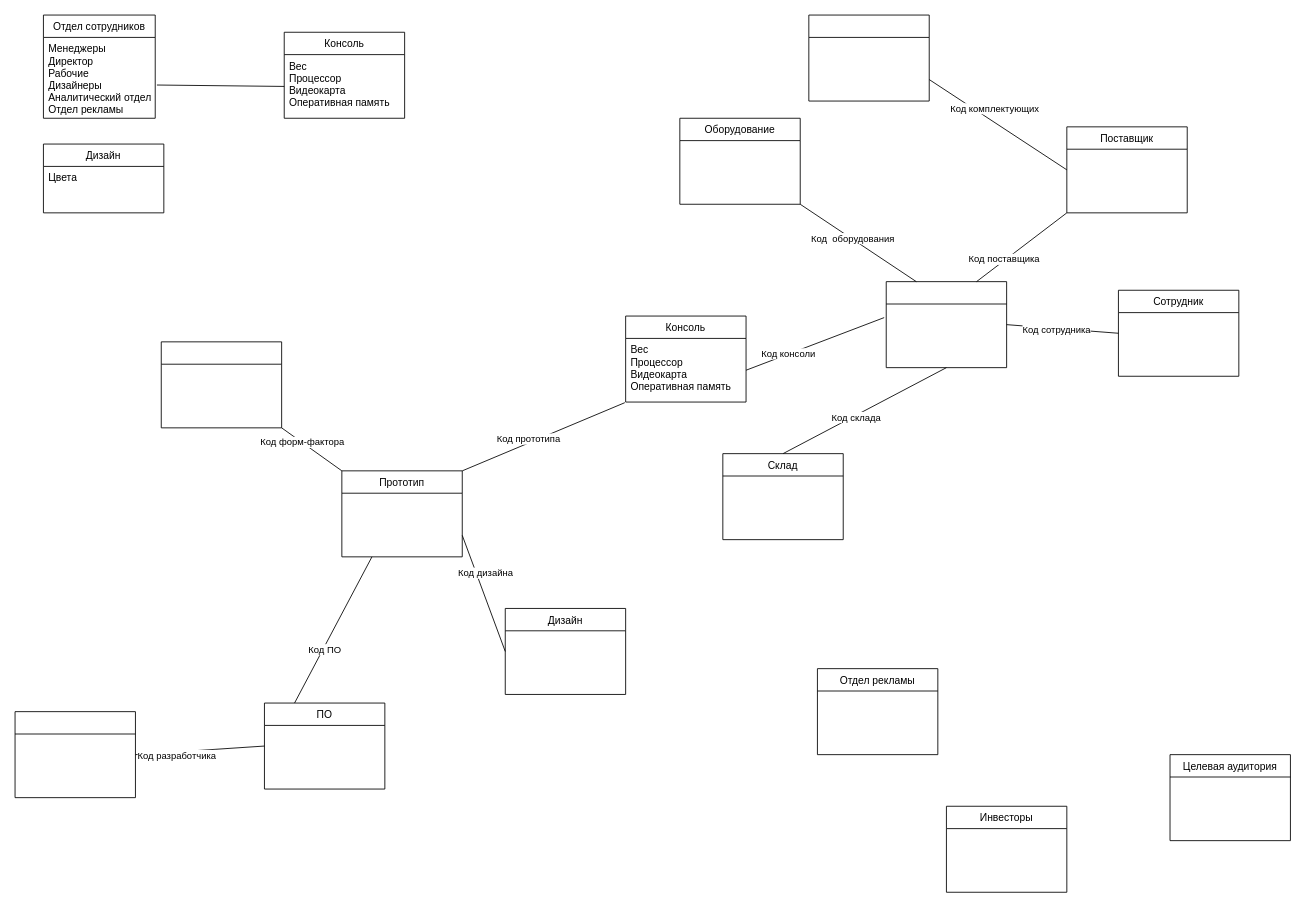
This 1305x907 diagram has some shape labels left out. The centre of each missing label's shape, as x and y in pixels:
"Завод" belongs at (x=946, y=324).
"Комплектующие" belongs at (x=868, y=57).
"Разработчик" belongs at (x=74, y=754).
"Форм-фактор" belongs at (x=221, y=384).
